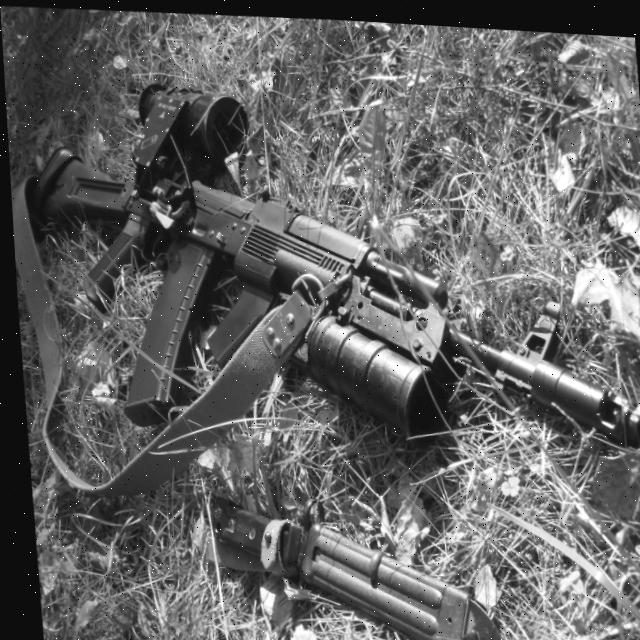firearm: (14, 63, 640, 452)
